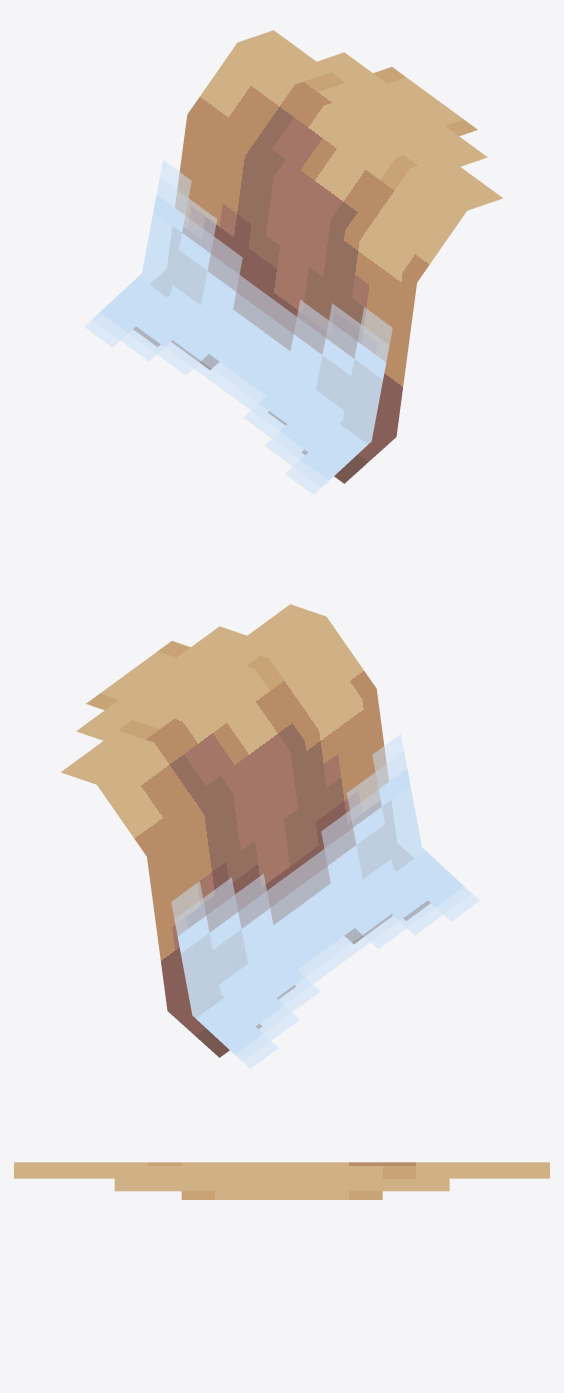
The picture shows the model from 3 angles, top to bottom: view 1: azimuth 30°, elevation 25°; view 2: azimuth 150°, elevation 25°; view 3: azimuth 270°, elevation 25°; orthographic projection. The views are drawn at different scales.
Size of the model in its own units: 0.7695 by 0.7266 by 1.
2 materials, 2 textured.
